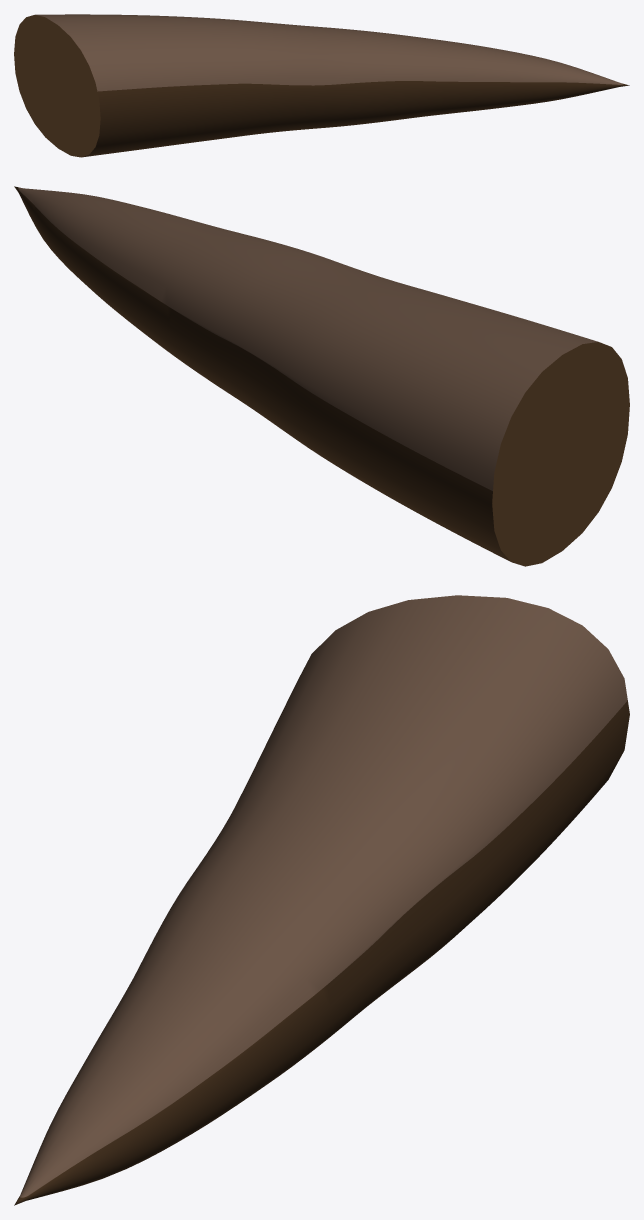
The model's file is tusk_arm_a_195.glb.
3 views of the same model, one above another, from view 1: azimuth 30°, elevation 25°; view 2: azimuth 150°, elevation 25°; view 3: azimuth 270°, elevation 25° (orthographic). The views are drawn at different scales.
Parts seen in each view (by area): view 1: tusk_arm_a_195; view 2: tusk_arm_a_195; view 3: tusk_arm_a_195.
Part boxes in pixels (box(x1,y1,x2,y2)): tusk_arm_a_195: box(14, 14, 629, 157); tusk_arm_a_195: box(14, 186, 629, 566); tusk_arm_a_195: box(14, 595, 629, 1205).
Size of the model in its own units: 22.61 by 5.82 by 13.48.
